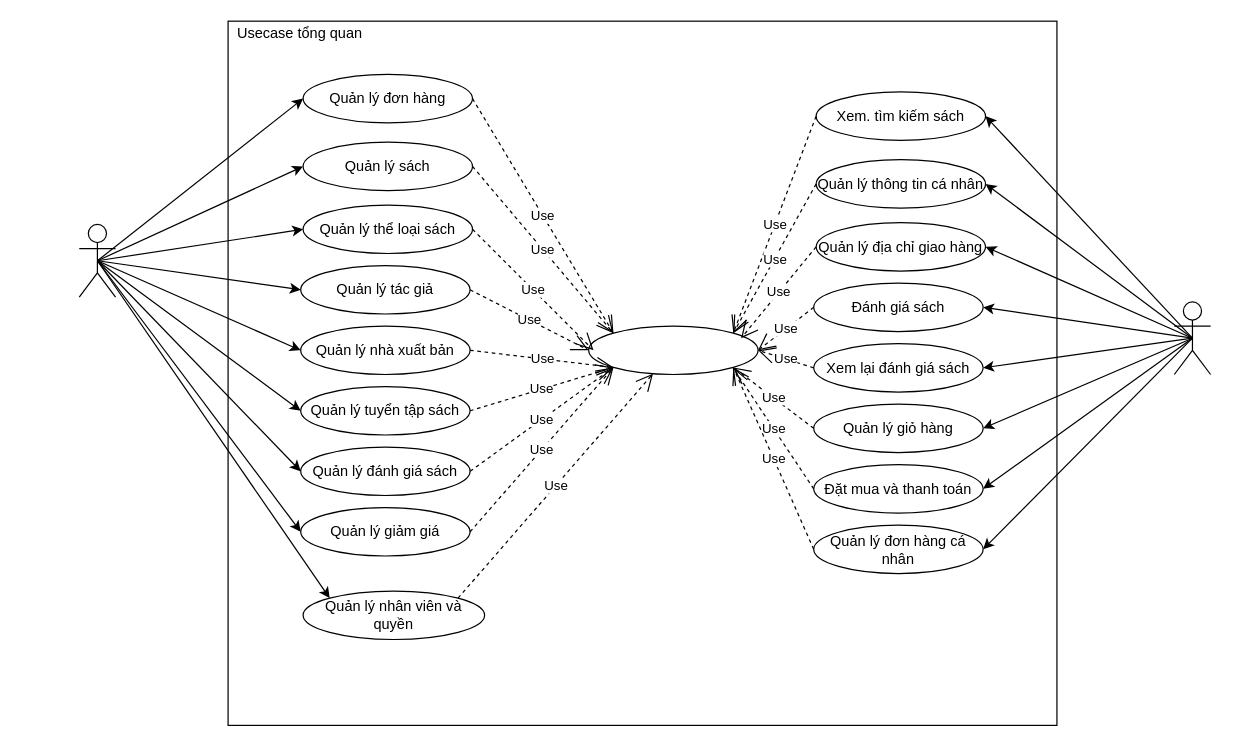
The diagram is 1252 pixels wide and 747 high, and some of its shapes have lost their labels. Here are the shapes that lost their labels. From the top down, the box of each, then its label:
(78, 223, 116, 297): Người quản trị hệ thống
(587, 325, 758, 374): Đăng nhập
(1173, 301, 1211, 374): Khách hàng
